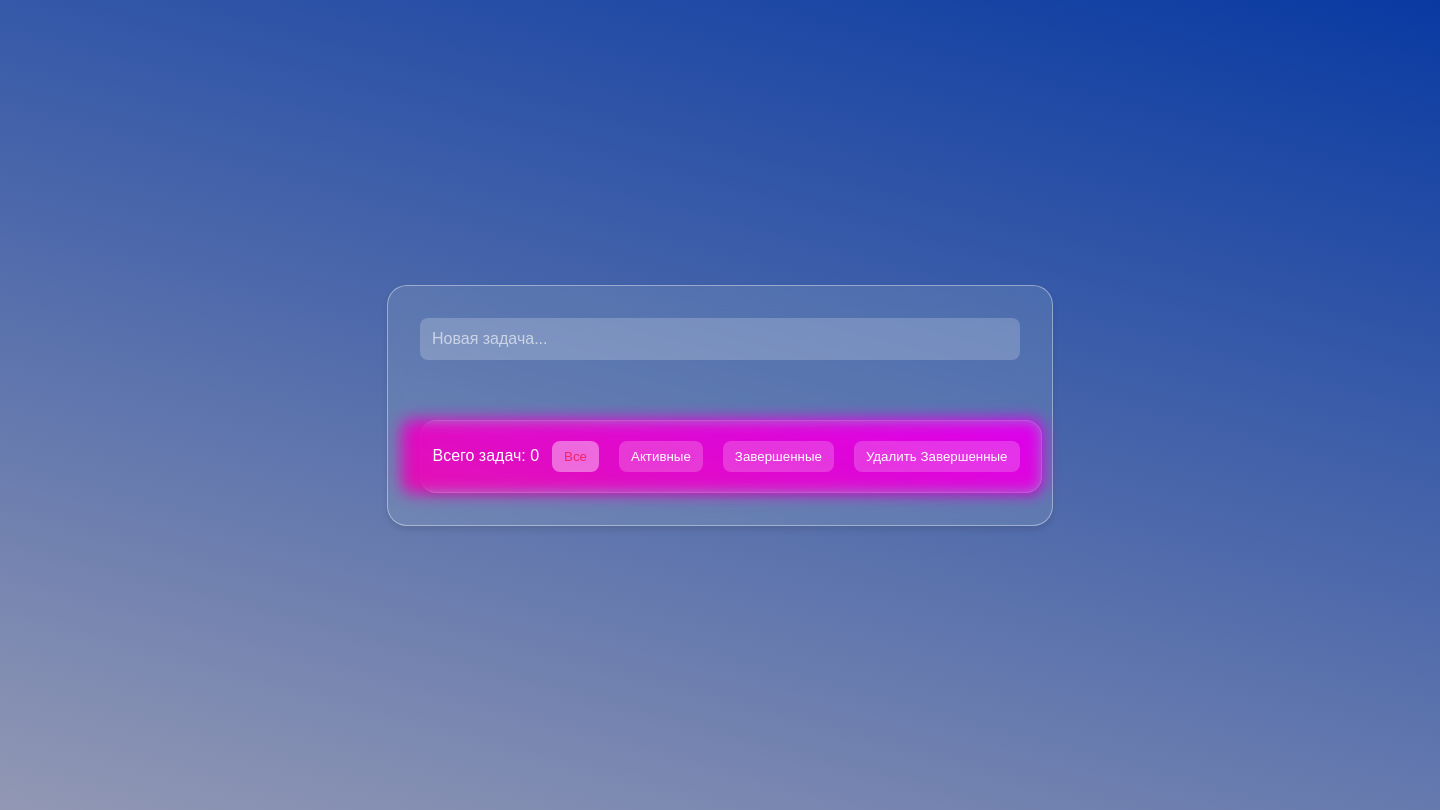
Test: фильтрация задач (все/активные/завершённые)
Note: Добавляем три задачи
Type "Задача 1" into the checkbox with placeholder "Новая задача..." at (720, 338), box [420,318,1020,360]
Submit the form from the checkbox with placeholder "Новая задача...", box [420,318,1020,360]
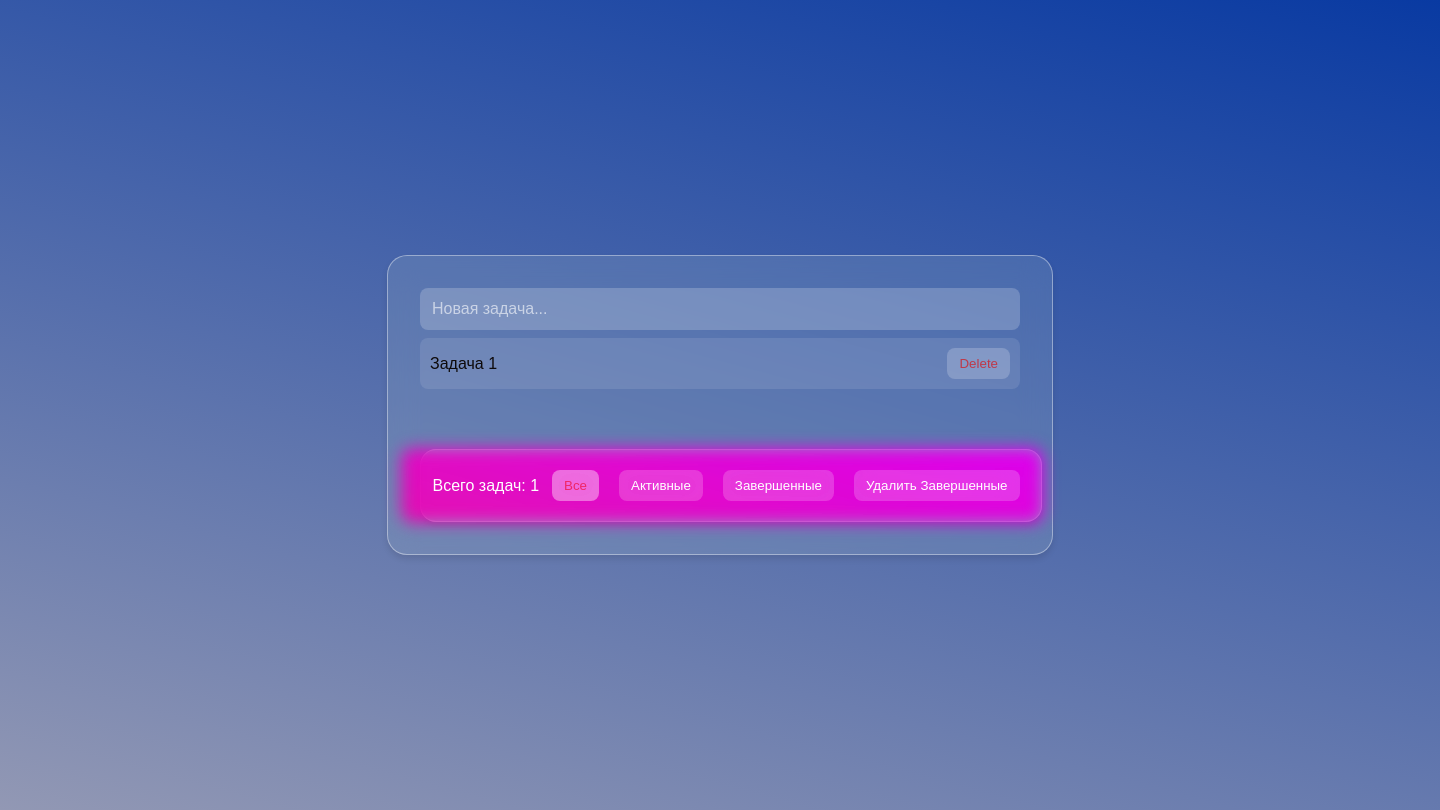
Type "Задача 2" into the checkbox with placeholder "Новая задача..." at (720, 309), box [420,288,1020,330]
Submit the form from the checkbox with placeholder "Новая задача...", box [420,288,1020,330]
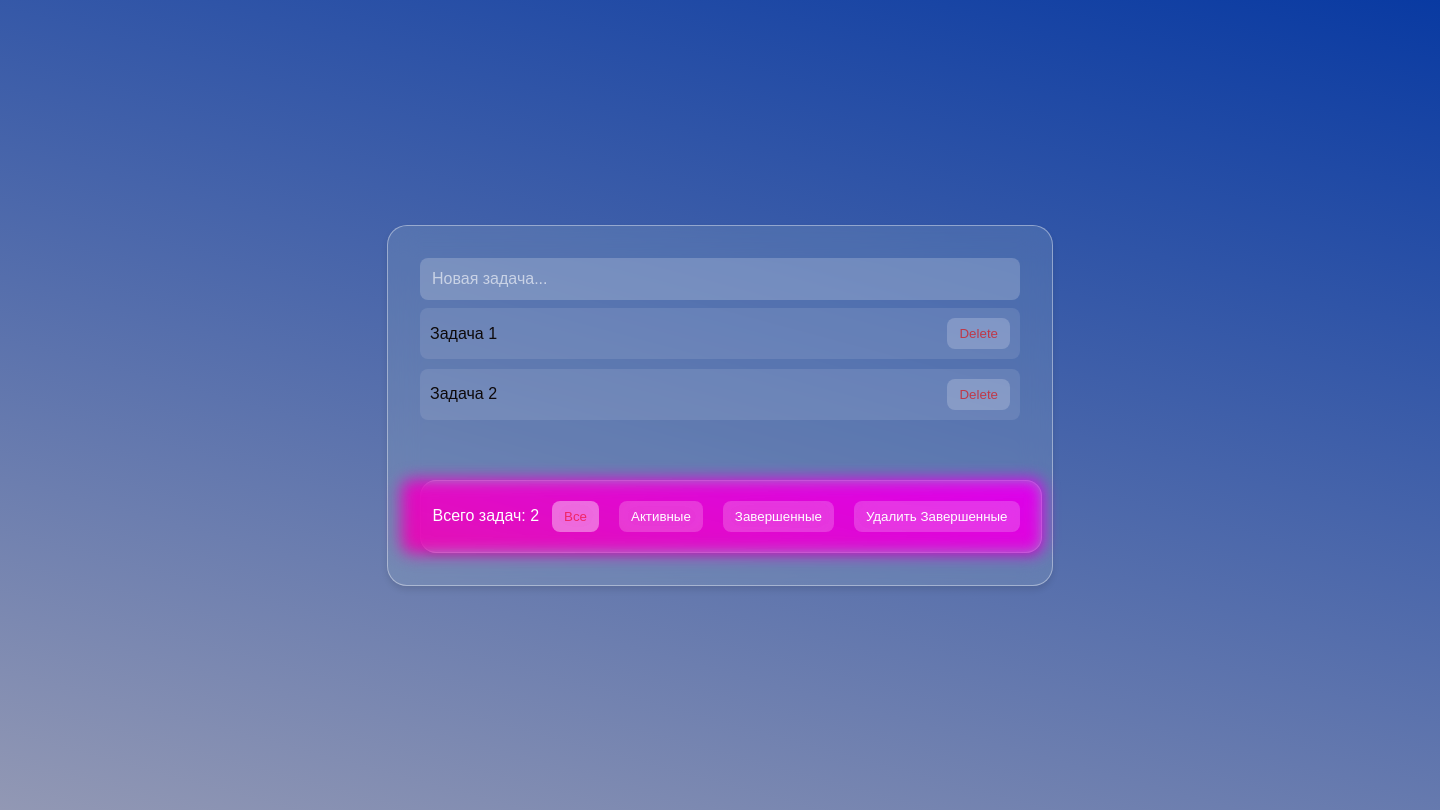
Type "Задача 3" into the checkbox with placeholder "Новая задача..." at (720, 278), box [420,258,1020,300]
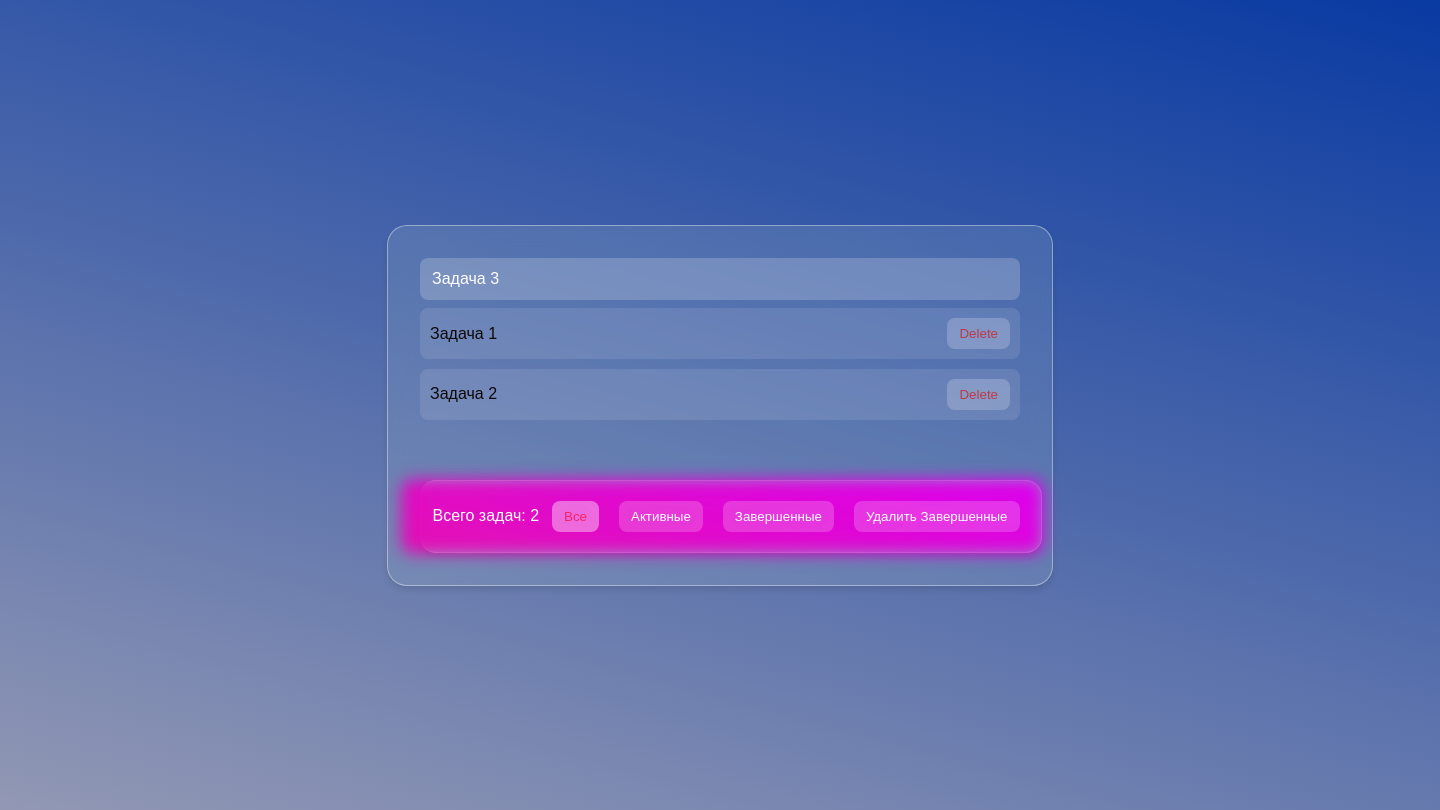
Submit the form from the checkbox with placeholder "Новая задача...", box [420,258,1020,300]
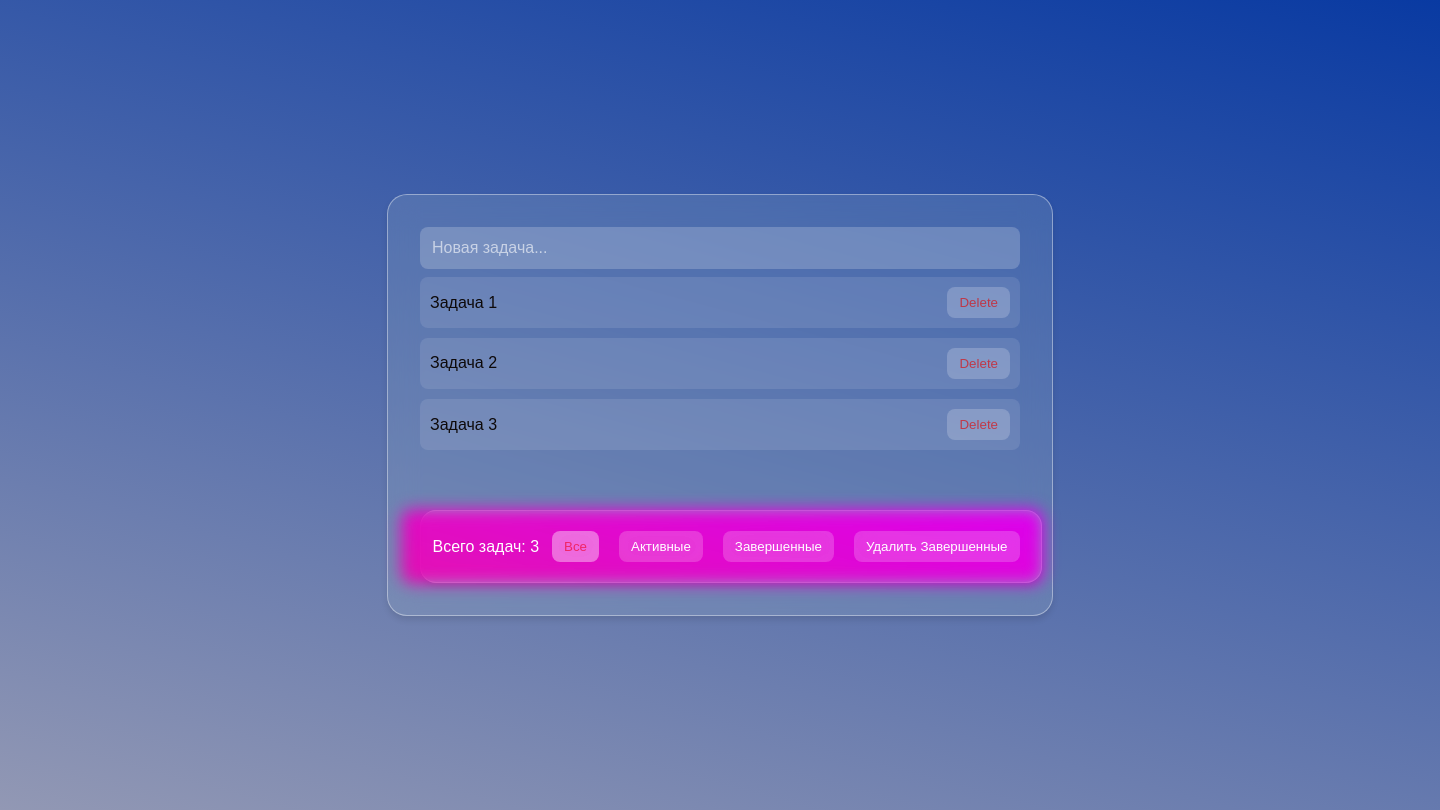
Note: Завершаем одну задачу
Click the text "Задача 1" at (464, 302), box [430,294,497,312]
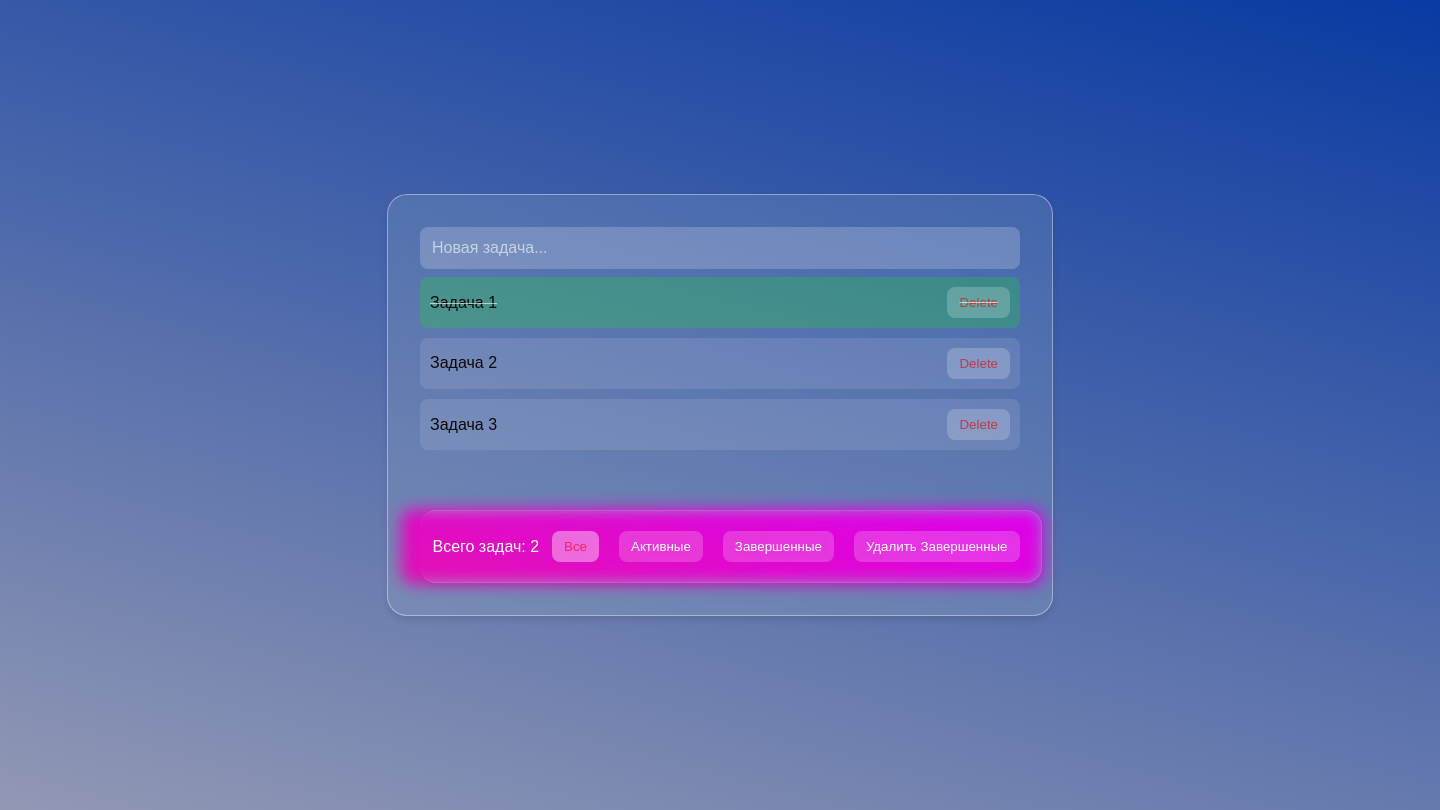
Note: Фильтрация завершённых задач
Click the button "Завершенные" at (778, 546), box [723,531,834,562]
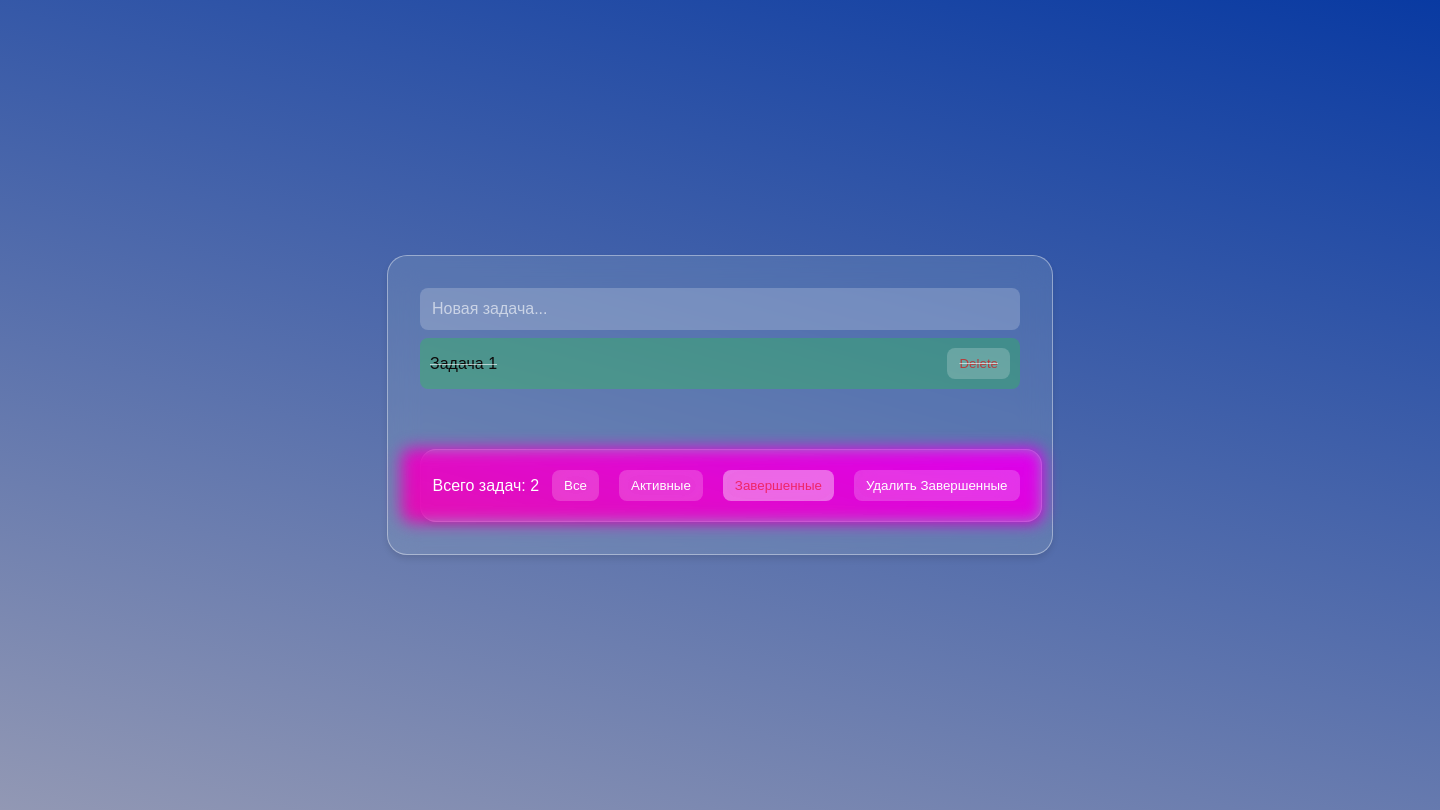
Expected: the text "Задача 1" is shown once, [430,354,497,372]
Expected: the text "Задача 2" is gone
Expected: the text "Задача 3" is gone
